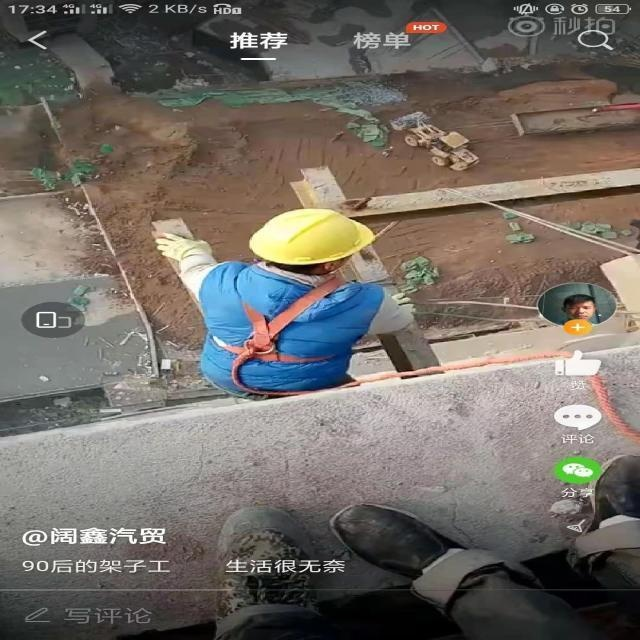Arnes_seguridad: (198, 259, 377, 398)
